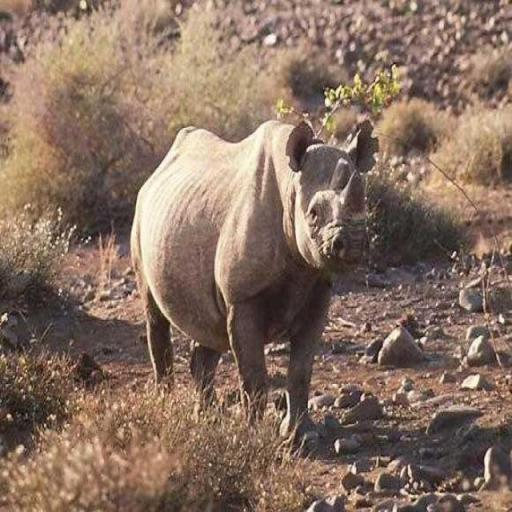Rhino: (128, 114, 379, 438)
